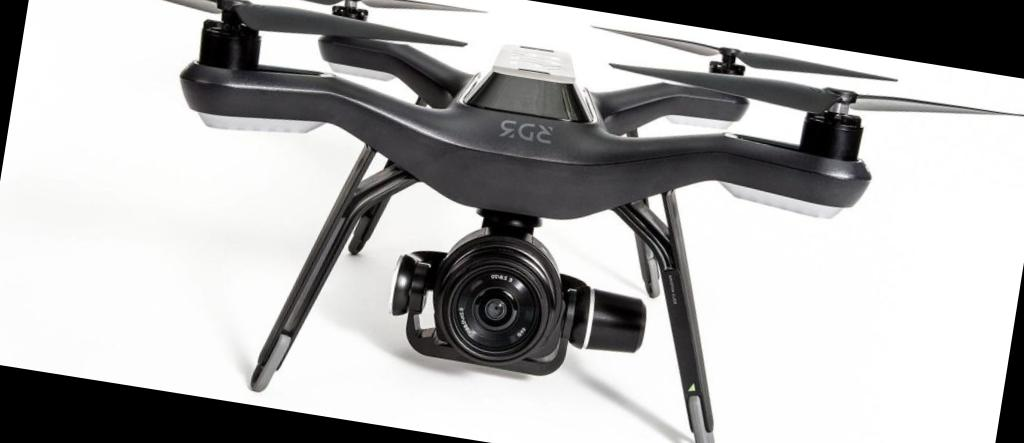drone: (9, 0, 1024, 283)
